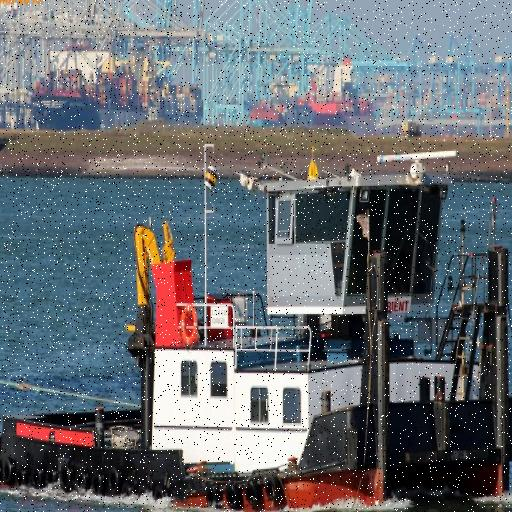tugboat: (1, 148, 512, 512)
